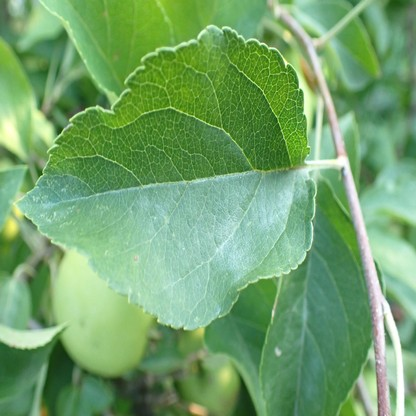powdery_mildew: (15, 164, 308, 332), (282, 228, 325, 402)
